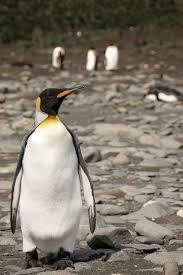king: (6, 86, 118, 267)
